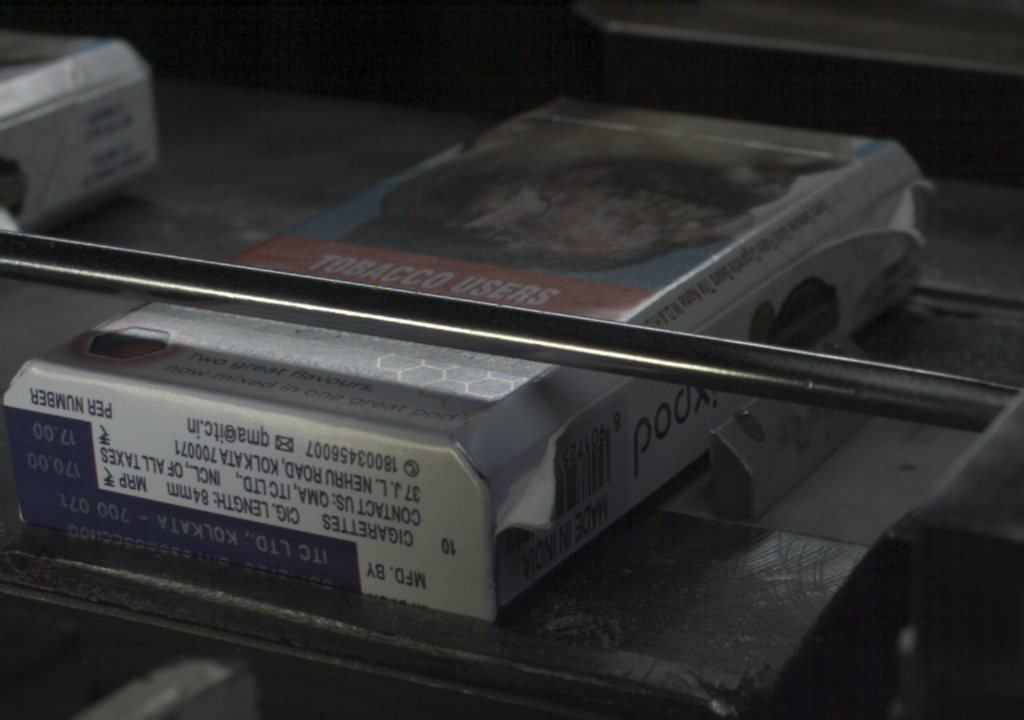g_bottom: (1, 363, 486, 625)
g_label: (12, 487, 359, 592)
g_lmiter: (742, 250, 814, 300), (569, 381, 624, 420), (692, 292, 751, 328)
ng_lmiter: (496, 428, 561, 538), (835, 201, 884, 244)
ng_miter: (887, 190, 922, 241)
price: (7, 416, 96, 488)
